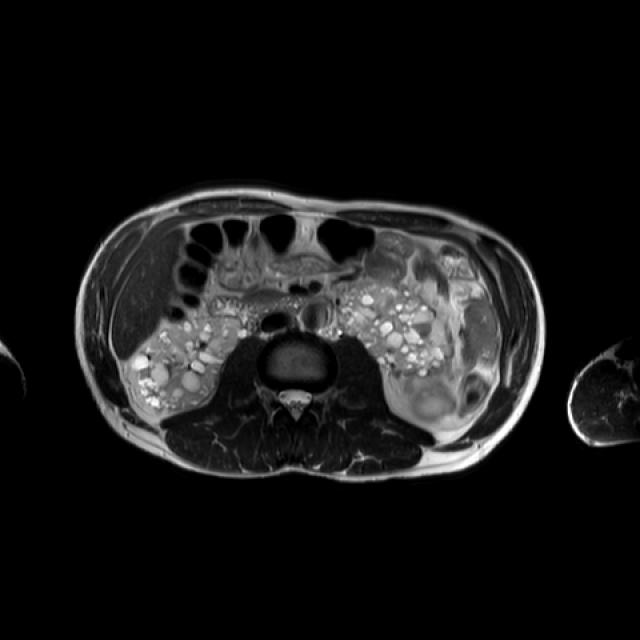sag: (130, 316, 245, 410)
sol: (337, 284, 452, 379)
